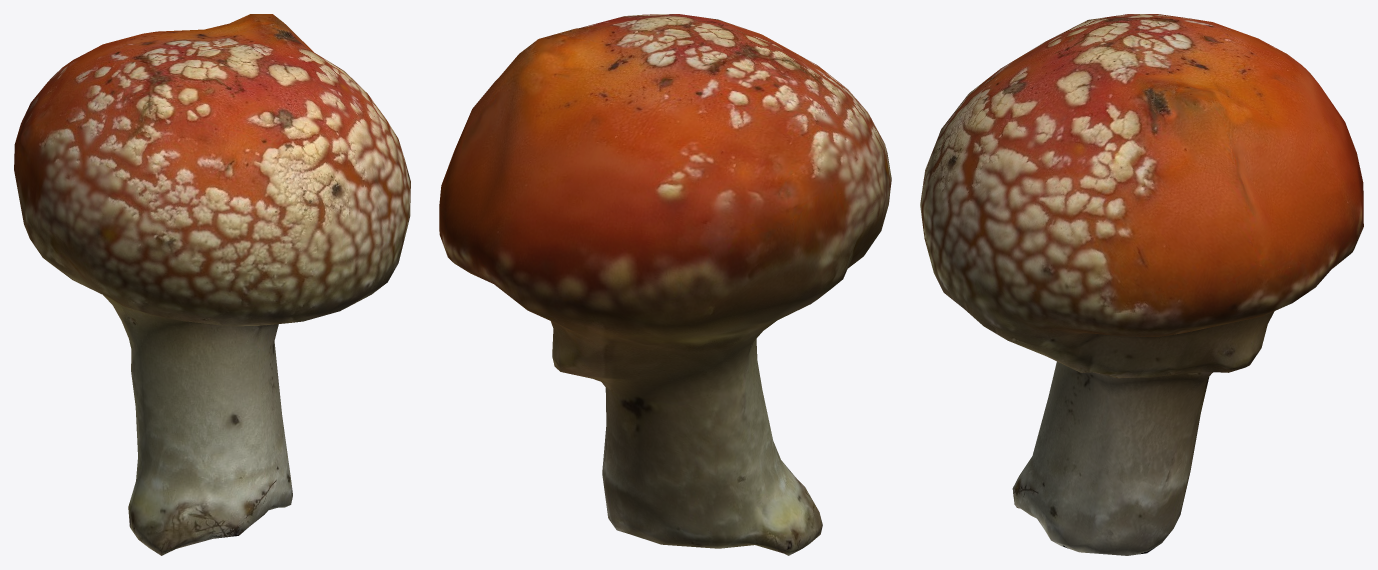
File: shroom-2.gltf
The picture shows the model from 3 angles, left to right: view 1: azimuth 30°, elevation 25°; view 2: azimuth 150°, elevation 25°; view 3: azimuth 270°, elevation 25°; orthographic projection. The views are drawn at different scales.
Visible parts, largest first — view 1: mushroom_08; view 2: mushroom_08; view 3: mushroom_08.
Part boxes in pixels (box(x1,y1,x2,y2)): mushroom_08: box(14, 14, 410, 555); mushroom_08: box(439, 14, 891, 555); mushroom_08: box(920, 14, 1363, 555).
Bounding box in the file's own units: 76.74 × 98.57 × 79.56.
1 material, 1 textured.
